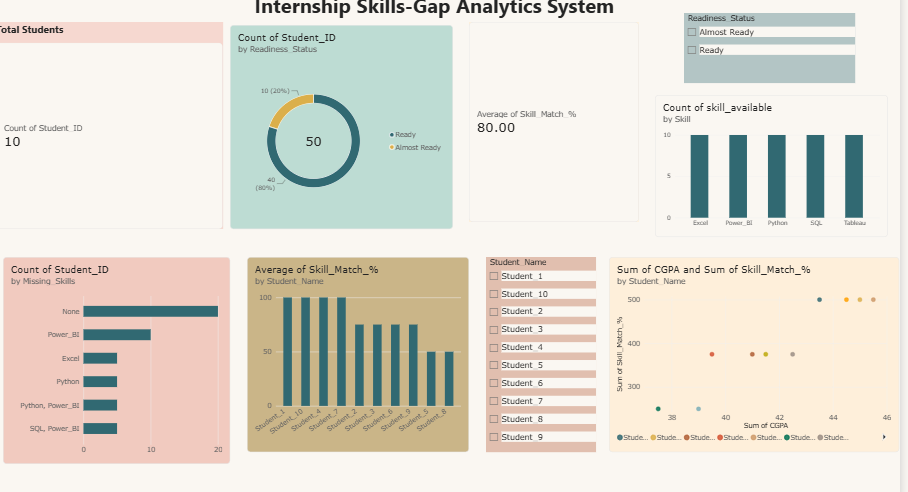

This screenshot's page, from the dashboard's own definition file:
{"tool":"powerbi","page":{"name":"Page 1","canvas":[1920,1080],"ordinal":0},"visuals":[{"type":"cardVisual","title":"Total Students","fields":{"Data":["Count(skill_gap_result.Student_ID)"]},"box":[0,65.9,482.6,440.1],"z":0},{"type":"cardVisual","fields":{"Data":["Avg(skill_gap_result.Skill_Match_%)"]},"box":[1005.6,65.9,361.4,425.2],"z":1000},{"type":"donutChart","fields":{"Category":["skill_gap_result.Readiness_Status"],"Y":["CountNonNull(skill_gap_result.Student_ID)"]},"box":[497.5,72.3,474.1,433.7],"z":2000},{"type":"clusteredBarChart","fields":{"Category":["skill_gap_result.Missing_Skills"],"Y":["CountNonNull(skill_gap_result.Student_ID)"]},"box":[14.9,565.5,483,440],"z":3000},{"type":"clusteredColumnChart","fields":{"Category":["skill_gap_result.Student_Name"],"Y":["Avg(skill_gap_result.Skill_Match_%)"]},"box":[533.6,565.5,472,414.6],"z":4000},{"type":"slicer","fields":{"Values":["skill_gap_result.Readiness_Status"]},"box":[1462.7,46.8,363.5,148.8],"z":5000},{"type":"slicer","fields":{"Values":["skill_gap_result.Student_Name"]},"box":[1041.7,565.5,233.9,414.6],"z":6000},{"type":"clusteredColumnChart","fields":{"Category":["skill_gap_result.Skill"],"Y":["CountNonNull(skill_gap_result.skill_available)"]},"box":[1401,221.1,495.4,301.9],"z":6001},{"type":"scatterChart","fields":{"Series":["skill_gap_result.Student_Name"],"X":["Sum(skill_gap_result.CGPA)"],"Y":["Sum(skill_gap_result.Skill_Match_%)"]},"box":[1303.2,565.5,616.5,414.6],"z":6002},{"type":"textbox","box":[497.5,0,869.5,72.3],"z":6003}]}

Visuals, with their boxes on the page's 1920x1080 design canvas (x1, y1, x2, y2). These are canvas units, not pixel positions in the 908x492 screenshot, which may show the page scaled, cropped or inside an application window:
"Total Students" cardVisual: Rect(0, 66, 483, 506)
cardVisual - Avg(skill_gap_result.Skill_Match_%): Rect(1006, 66, 1367, 491)
donutChart - skill_gap_result.Readiness_Status x CountNonNull(skill_gap_result.Student_ID): Rect(498, 72, 972, 506)
clusteredBarChart - skill_gap_result.Missing_Skills x CountNonNull(skill_gap_result.Student_ID): Rect(15, 566, 498, 1006)
clusteredColumnChart - skill_gap_result.Student_Name x Avg(skill_gap_result.Skill_Match_%): Rect(534, 566, 1006, 980)
slicer - skill_gap_result.Readiness_Status: Rect(1463, 47, 1826, 196)
slicer - skill_gap_result.Student_Name: Rect(1042, 566, 1276, 980)
clusteredColumnChart - skill_gap_result.Skill x CountNonNull(skill_gap_result.skill_available): Rect(1401, 221, 1896, 523)
scatterChart - skill_gap_result.Student_Name x Sum(skill_gap_result.CGPA): Rect(1303, 566, 1920, 980)
textbox: Rect(498, 0, 1367, 72)
